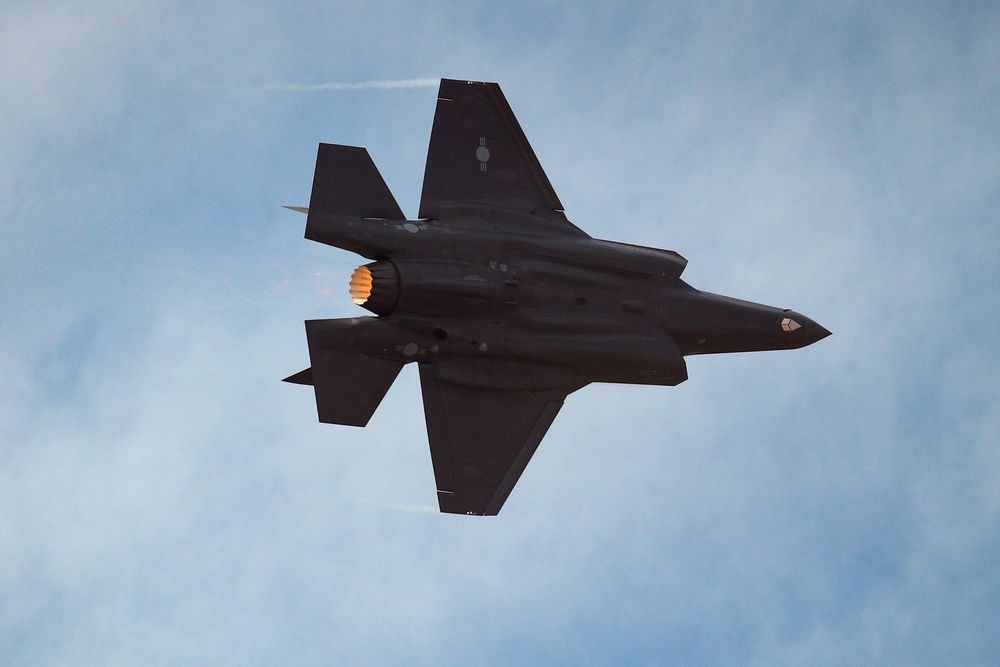F-35 Lightning: (251, 49, 876, 537)
